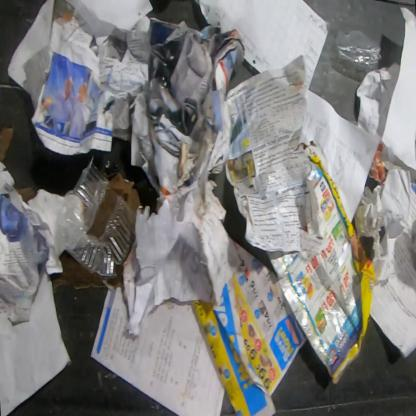cardboard: (265, 145, 376, 385)
metal: (104, 158, 119, 173)
rigid_plastic: (52, 153, 136, 279)
soft_plastic: (334, 28, 383, 74)
